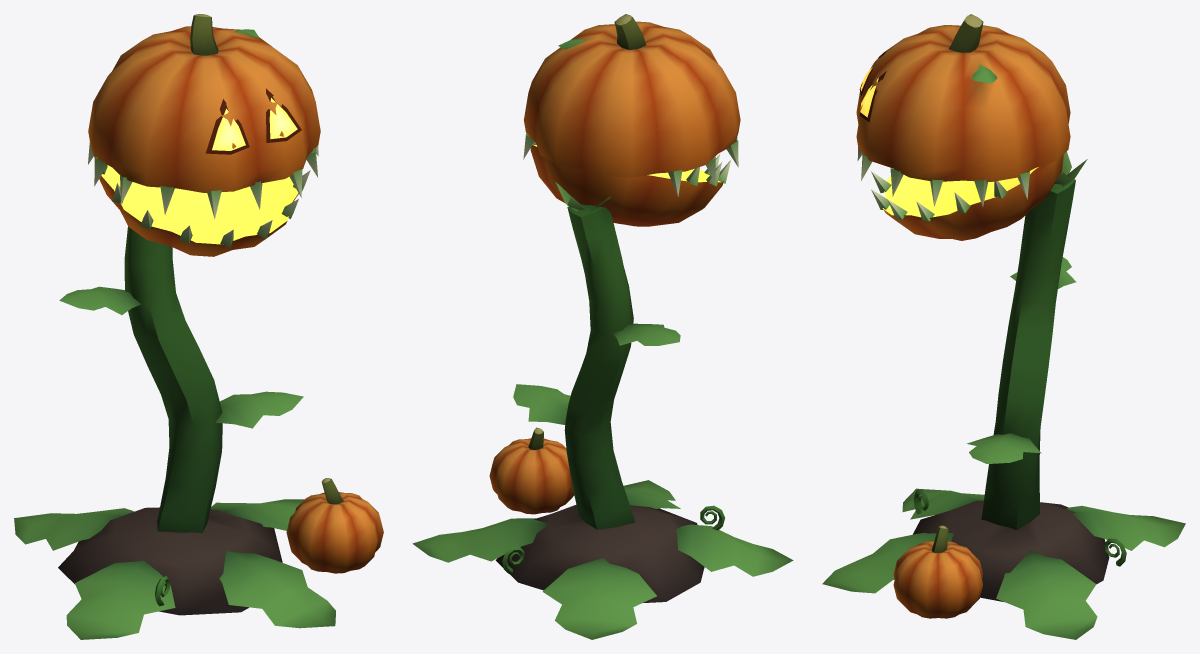
Rendered from plant_haunted.glb.
3 views of the same model, side by side, from view 1: azimuth 30°, elevation 25°; view 2: azimuth 150°, elevation 25°; view 3: azimuth 270°, elevation 25° (orthographic). The views are drawn at different scales.
Visible parts, largest first — view 1: base, head, stem, jaw; view 2: base, head, stem, jaw; view 3: head, base, stem, jaw.
Part boxes in pixels (x1,y1,x2,y2): base: (14, 478, 383, 639); head: (88, 14, 320, 219); stem: (59, 226, 303, 533); jaw: (99, 165, 310, 256); base: (412, 427, 793, 639); head: (523, 14, 740, 196); stem: (513, 182, 680, 529); jaw: (530, 142, 731, 226); head: (856, 14, 1070, 207); base: (822, 488, 1185, 639); stem: (967, 151, 1087, 530); jaw: (871, 154, 1063, 240).
Bounding box in the file's own units: 0.9966 × 1.66 × 1.01.
